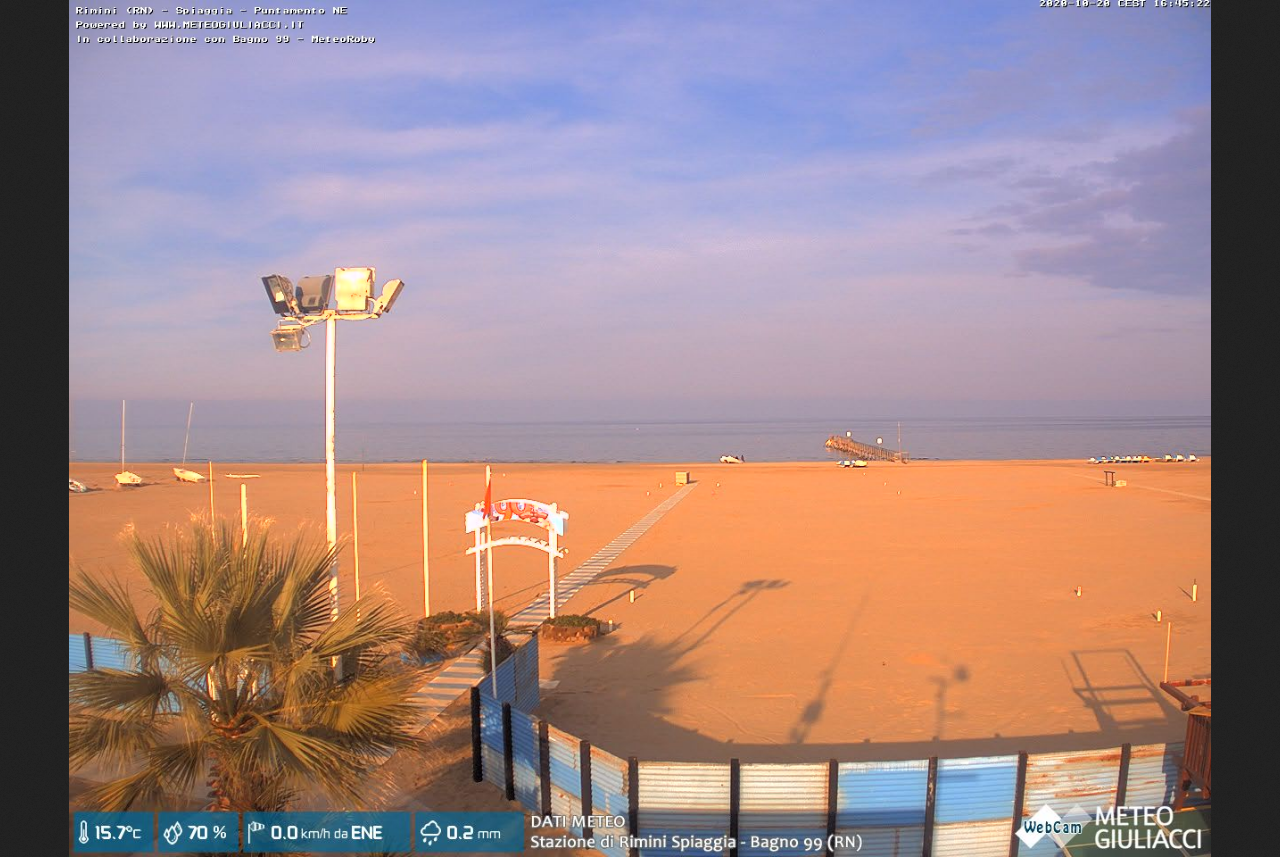no: (477, 470, 497, 523)
